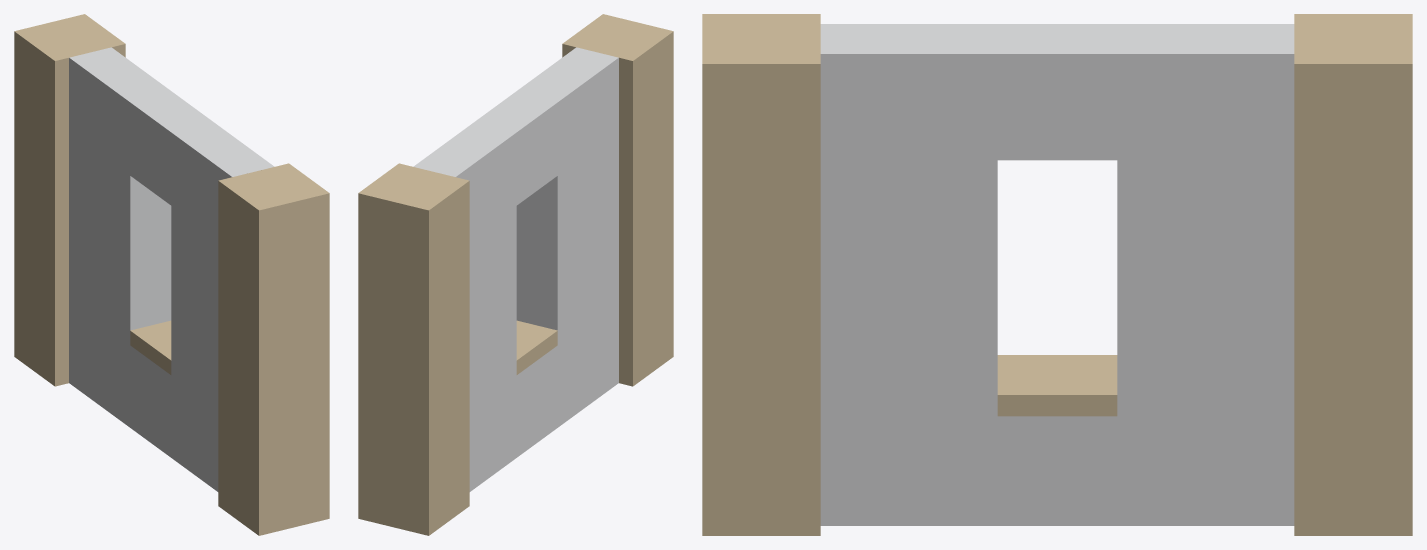
File: Wood_Window_Square_Sill_01.glb
3 views of the same model, side by side, from view 1: azimuth 30°, elevation 25°; view 2: azimuth 150°, elevation 25°; view 3: azimuth 270°, elevation 25° (orthographic). The views are drawn at different scales.
Visible parts, largest first — view 1: Wood_Window_Square_Sill_01; view 2: Wood_Window_Square_Sill_01; view 3: Wood_Window_Square_Sill_01.
Boxes of the visible parts, <box> form: Wood_Window_Square_Sill_01: <box>14,14,329,535</box>; Wood_Window_Square_Sill_01: <box>358,14,673,535</box>; Wood_Window_Square_Sill_01: <box>702,14,1412,535</box>.
Size of the model in its own units: 0.5001 by 2.2 by 3.
